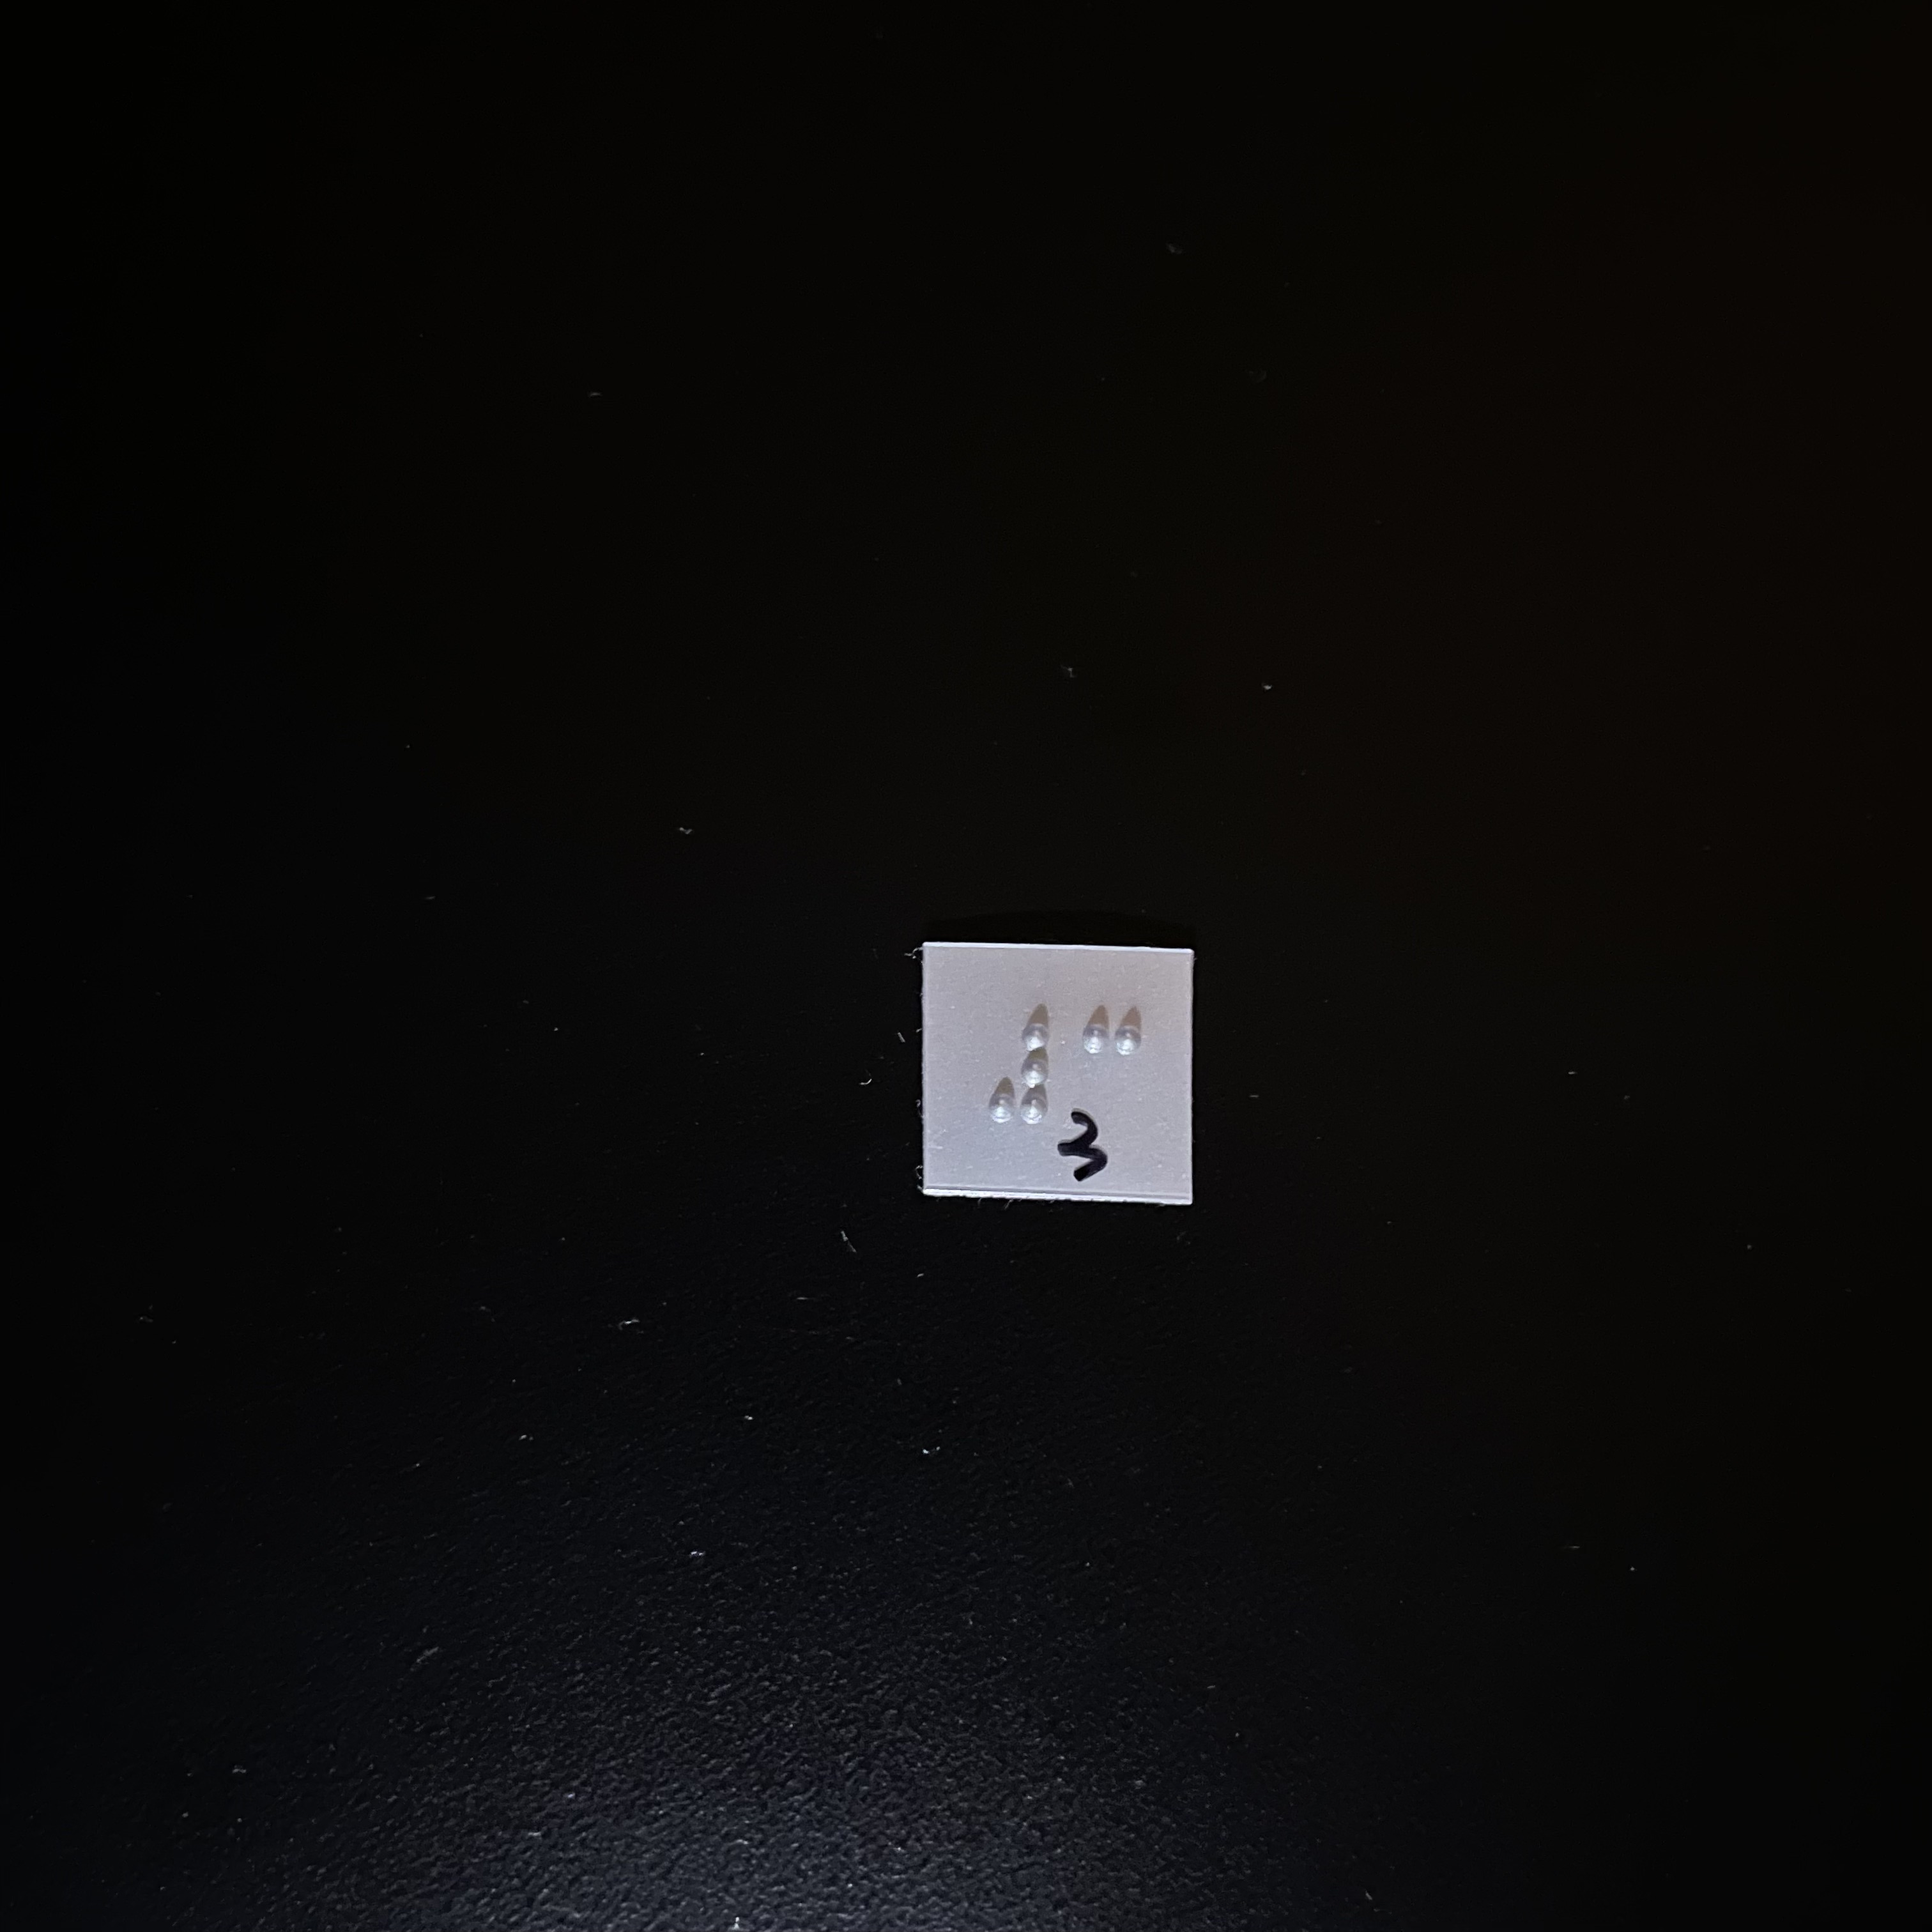#: (985, 1002, 1067, 1128)
c: (1075, 1004, 1146, 1130)
